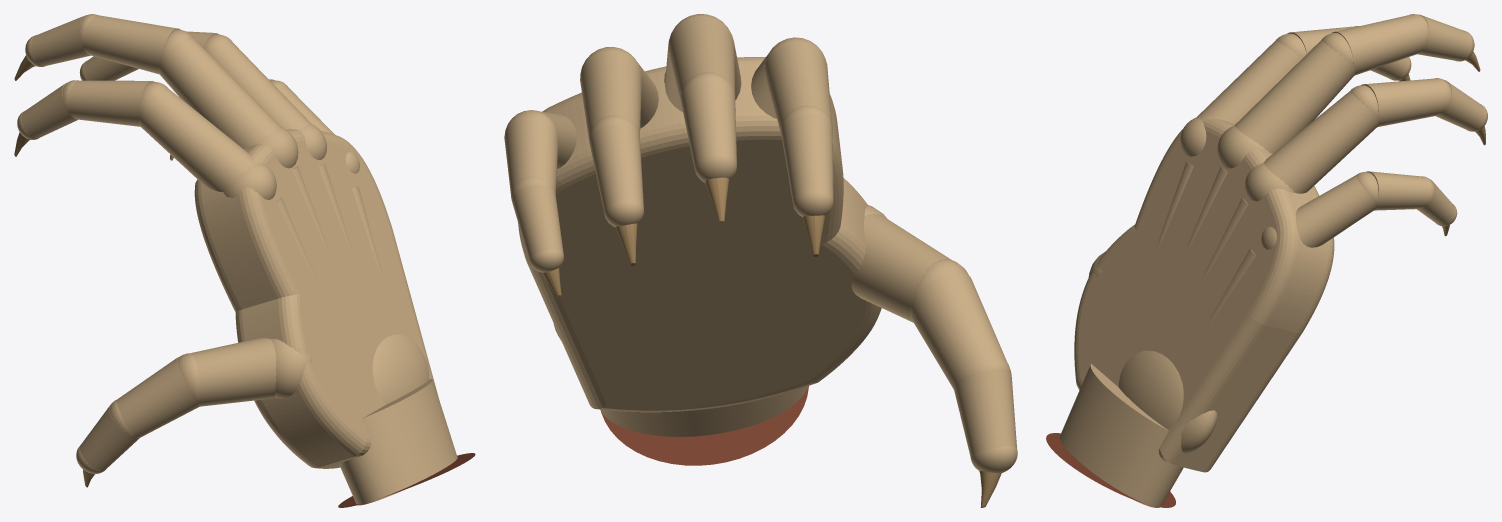
File: floating-hand.obj
The picture shows the model from 3 angles, left to right: view 1: azimuth 30°, elevation 25°; view 2: azimuth 150°, elevation 25°; view 3: azimuth 270°, elevation 25°; orthographic projection. The views are drawn at different scales.
Visible parts, largest first — view 1: palm, wrist, middle_phalanx1, index_phalanx1, thumb_phalanx1, middle_phalanx2, thumb_phalanx2, index_phalanx2, palm_heel, ring_phalanx1, thumb_phalanx3, middle_phalanx3 (+9 smaller); view 2: palm, thumb_phalanx2, thumb_phalanx1, wrist_stump_cut, wrist, thumb_phalanx3, index_phalanx2, ring_phalanx2, middle_phalanx2, middle_phalanx3, index_phalanx3, ring_phalanx3 (+15 smaller); view 3: palm, wrist, middle_phalanx1, ring_phalanx1, palm_heel, index_phalanx1, pinky_phalanx1, middle_phalanx2, ring_phalanx2, pinky_phalanx2, middle_phalanx3, ring_phalanx3 (+11 smaller).
Boxes of the visible parts, x1,y1,x2,y2 form: palm: (194, 129, 438, 468); wrist: (340, 378, 457, 505); middle_phalanx1: (158, 38, 280, 148); index_phalanx1: (138, 88, 254, 191); thumb_phalanx1: (189, 338, 276, 406); middle_phalanx2: (82, 15, 180, 74); thumb_phalanx2: (116, 357, 199, 438); index_phalanx2: (67, 80, 154, 126); palm_heel: (372, 334, 429, 404); ring_phalanx1: (210, 42, 311, 129); thumb_phalanx3: (79, 404, 138, 470); middle_phalanx3: (30, 15, 90, 65); palm: (518, 57, 881, 412); thumb_phalanx2: (910, 273, 1006, 389); thumb_phalanx1: (851, 213, 952, 322); wrist_stump_cut: (601, 386, 808, 465); wrist: (600, 386, 808, 436); thumb_phalanx3: (954, 371, 1017, 456); index_phalanx2: (764, 43, 832, 132); ring_phalanx2: (580, 52, 641, 140); middle_phalanx2: (668, 17, 735, 103); middle_phalanx3: (681, 81, 736, 166); index_phalanx3: (781, 117, 833, 202); ring_phalanx3: (589, 127, 643, 212); palm: (1074, 116, 1334, 472); wrist: (1059, 364, 1183, 507); middle_phalanx1: (1234, 40, 1355, 153); ring_phalanx1: (1263, 90, 1379, 193); palm_heel: (1118, 350, 1217, 453); index_phalanx1: (1197, 40, 1302, 124); pinky_phalanx1: (1295, 175, 1376, 247); middle_phalanx2: (1332, 15, 1425, 75); ring_phalanx2: (1361, 78, 1447, 126); pinky_phalanx2: (1366, 171, 1430, 210); middle_phalanx3: (1417, 14, 1470, 60); ring_phalanx3: (1435, 80, 1485, 130).
Bounding box in the file's own units: 0.1439 × 0.1679 × 0.1635.
